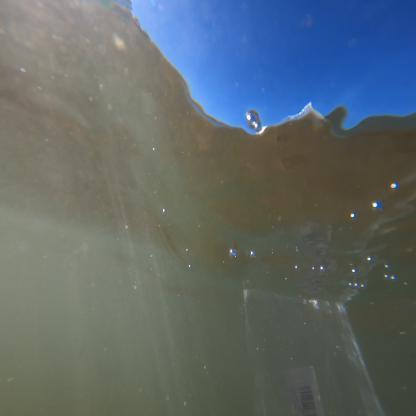Rác: (242, 280, 384, 412)
